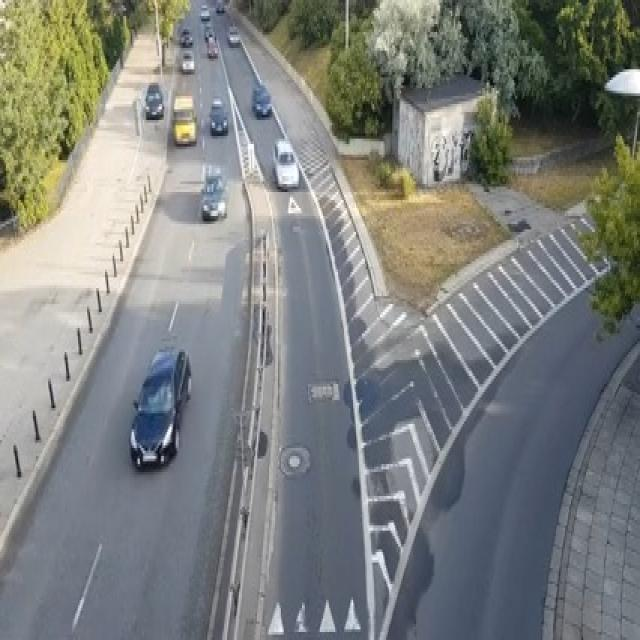car: (136, 348, 182, 459), (186, 171, 234, 224), (270, 141, 306, 194), (206, 98, 234, 138), (251, 83, 278, 118), (144, 85, 169, 122), (177, 19, 200, 46), (180, 52, 202, 75), (207, 46, 223, 65), (227, 30, 245, 43)
truck: (171, 89, 199, 151)
